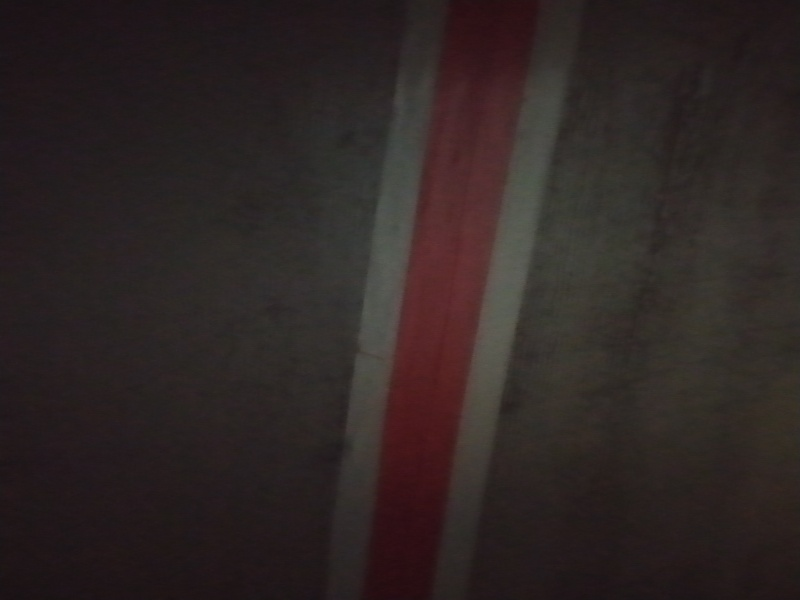faixa: (315, 140, 477, 599)
